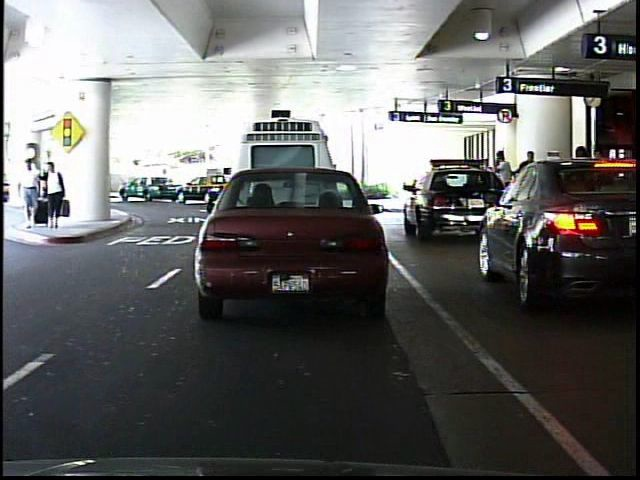person: (488, 146, 519, 225), (39, 159, 66, 232), (17, 154, 41, 229), (323, 158, 344, 200), (156, 165, 175, 198)
